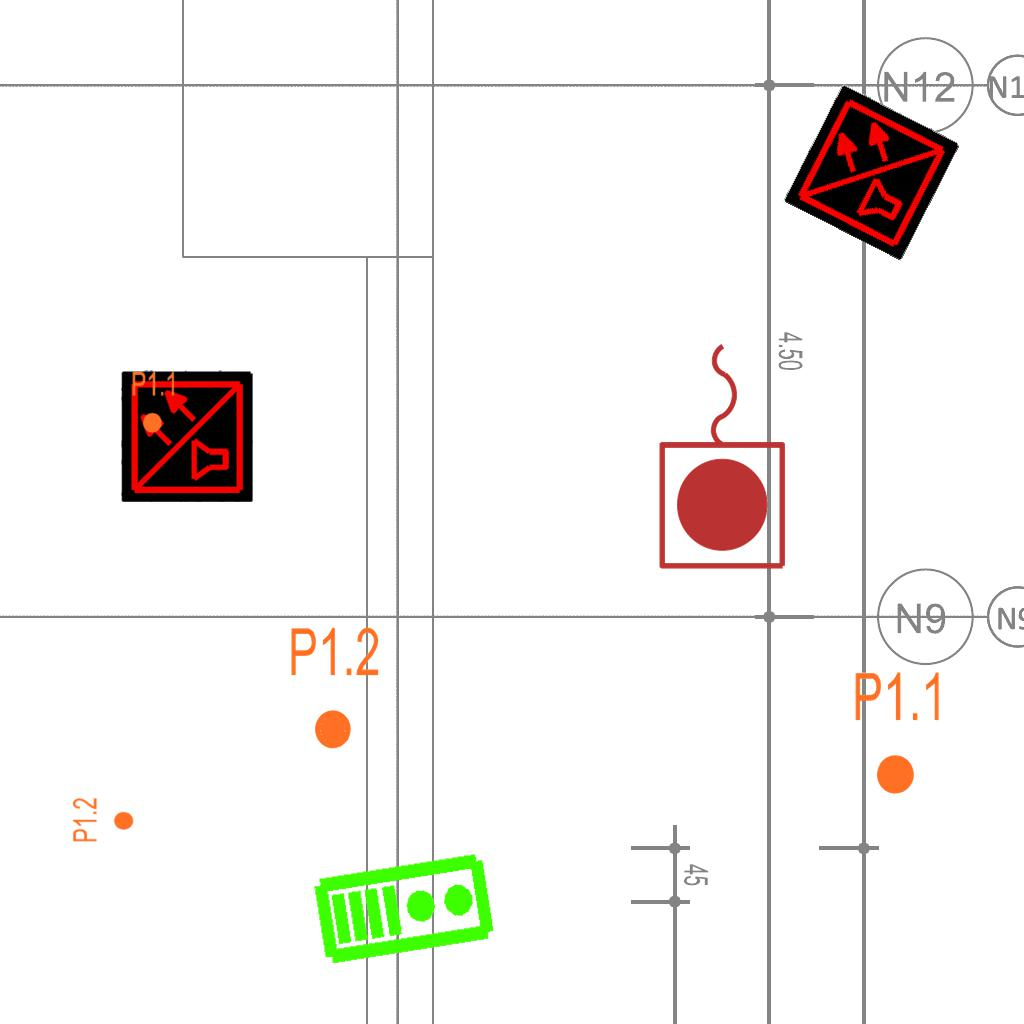Downlight_LED_Einbauleuchten_Flur: (852, 669, 945, 797), (288, 624, 381, 752), (71, 797, 135, 843), (131, 370, 177, 434)
Gegensprechanlage_mit_Video: (310, 846, 499, 968)
OKW_Multisensormelder_(Kombination_optischer_Rauch-Kahlenmonoxid_Waerme-Melder): (783, 83, 961, 261), (121, 370, 253, 502)
Zugtaster: (652, 333, 796, 577)
